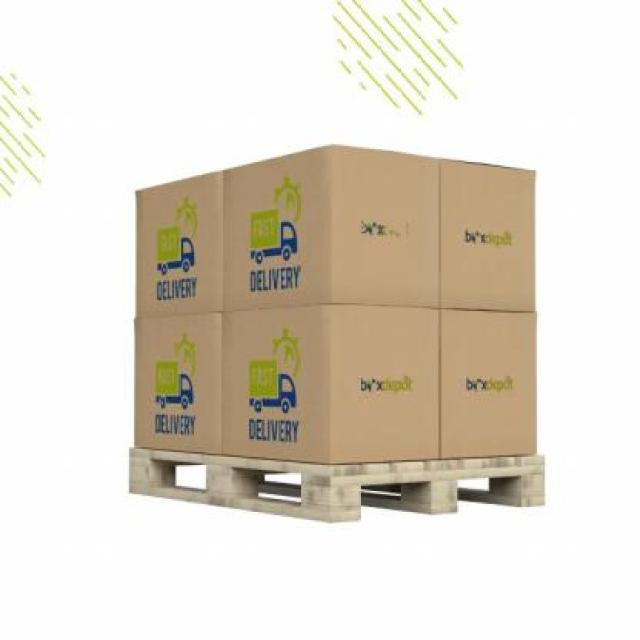box: (217, 289, 437, 463), (219, 140, 438, 307), (427, 148, 542, 315), (433, 297, 541, 463), (126, 304, 222, 462), (128, 171, 218, 313)
